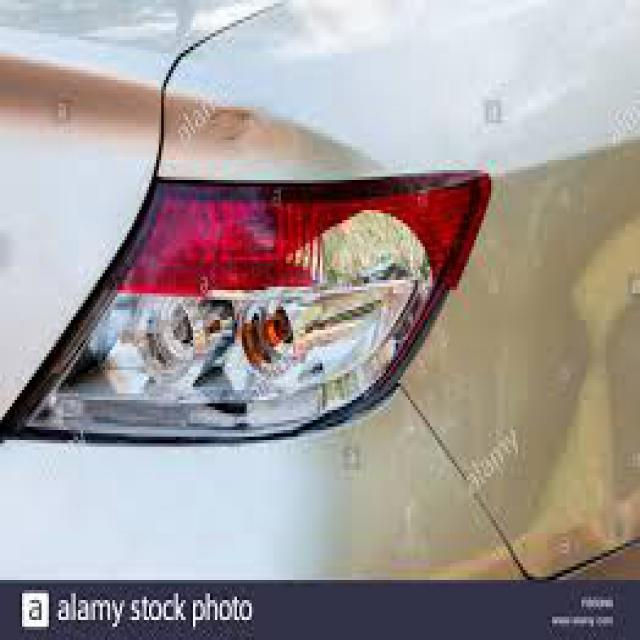Taillight-Damage: (32, 143, 491, 450)
